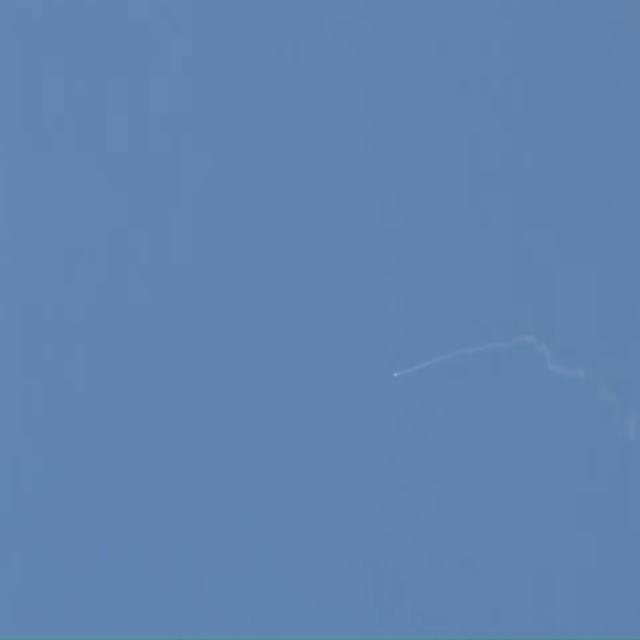Rocket: (393, 372, 398, 377)
